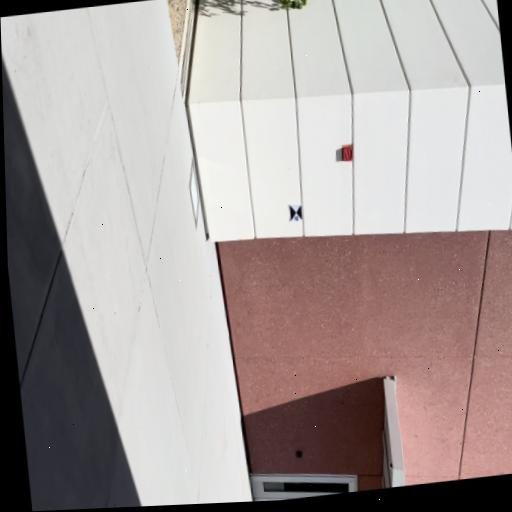target9: (289, 203, 303, 223)
